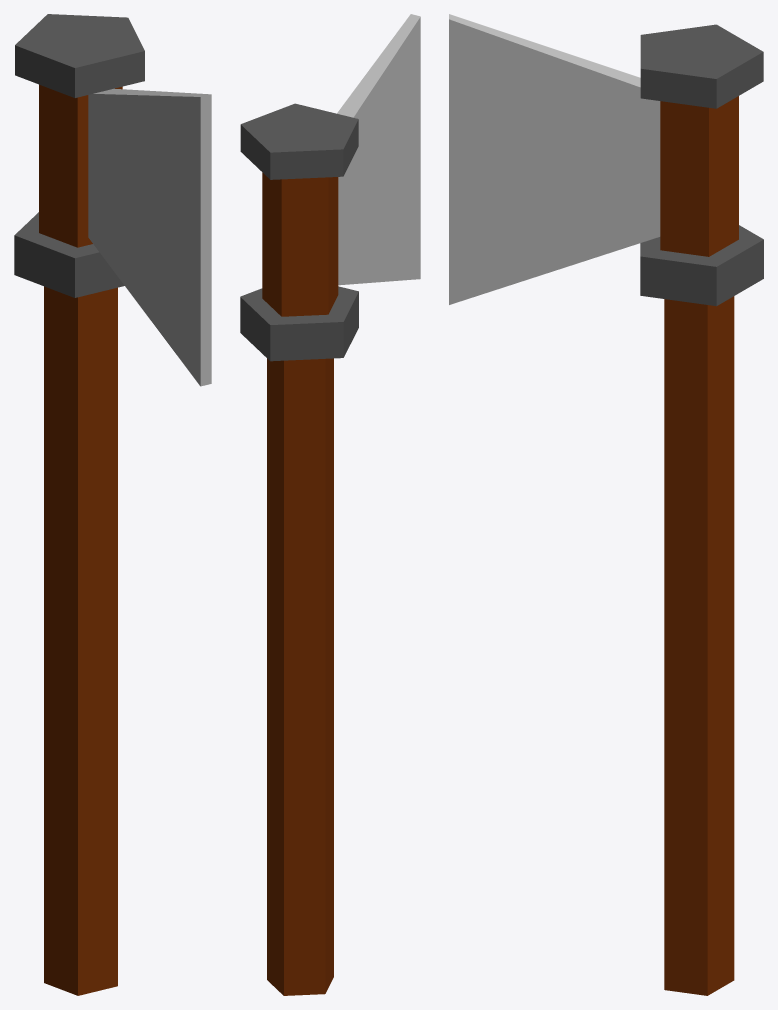
File: axe.glb
3 renders of one model, left to right at view 1: azimuth 30°, elevation 25°; view 2: azimuth 150°, elevation 25°; view 3: azimuth 270°, elevation 25°, orthographic. The views are drawn at different scales.
Parts seen in each view (by area): view 1: Cylinder, Cube; view 2: Cylinder, Cube; view 3: Cylinder, Cube.
Part boxes in pixels (x1,y1,x2,y2): Cylinder: (14,14,144,995); Cube: (88,88,211,386); Cylinder: (240,103,358,995); Cube: (337,14,420,285); Cylinder: (640,24,763,995); Cube: (449,14,660,304).
Bounding box in the file's own units: 1.68 × 13.73 × 4.07.
